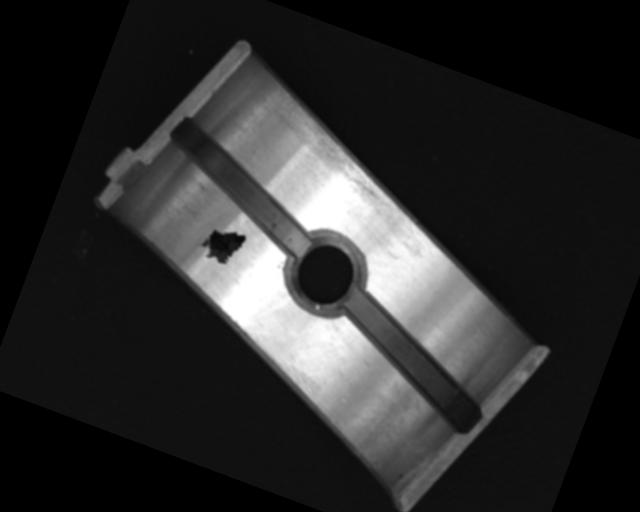blot: (194, 218, 248, 269)
gap: (318, 286, 504, 434), (148, 114, 335, 256)
hole: (275, 220, 378, 325)
scratch: (251, 87, 425, 213)
